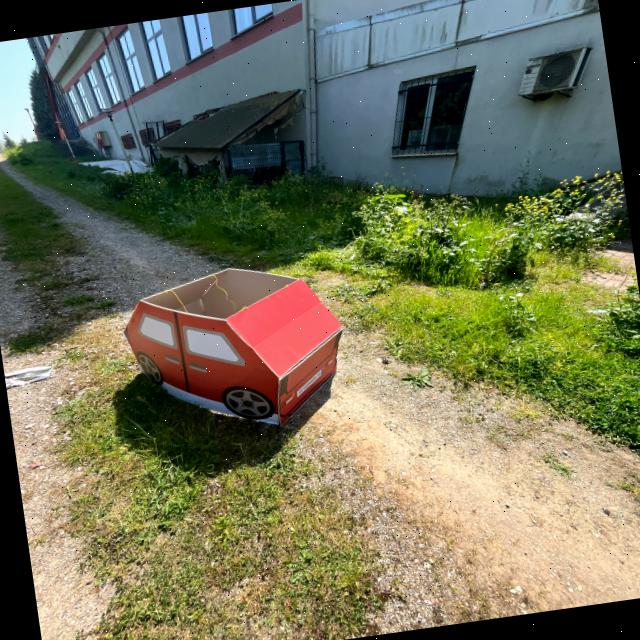red_car: (94, 243, 380, 462)
